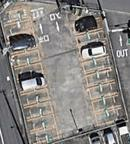parkingspot: (3, 17, 62, 144), (69, 15, 126, 127), (87, 124, 130, 144)
